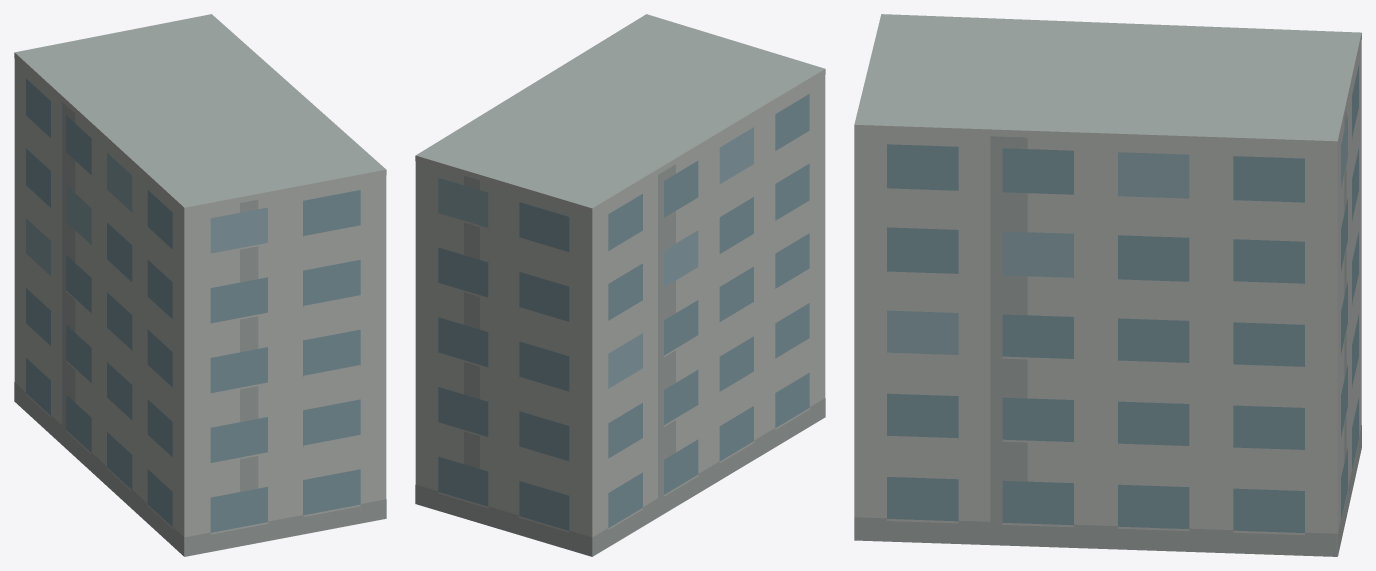
Rendered from survey-upis-33001034.glb.
3 renders of one model, left to right at view 1: azimuth 30°, elevation 25°; view 2: azimuth 150°, elevation 25°; view 3: azimuth 270°, elevation 25°, orthographic. The views are drawn at different scales.
Parts seen in each view (by area): view 1: survey-upis-33001034.tmp; view 2: survey-upis-33001034.tmp; view 3: survey-upis-33001034.tmp.
Boxes of the visible parts, box(x1,y1,x2,y2) form: survey-upis-33001034.tmp: box(14, 14, 386, 556); survey-upis-33001034.tmp: box(415, 14, 825, 556); survey-upis-33001034.tmp: box(854, 14, 1361, 556).
Size of the model in its own units: 9.66 by 14.7 by 16.28.
